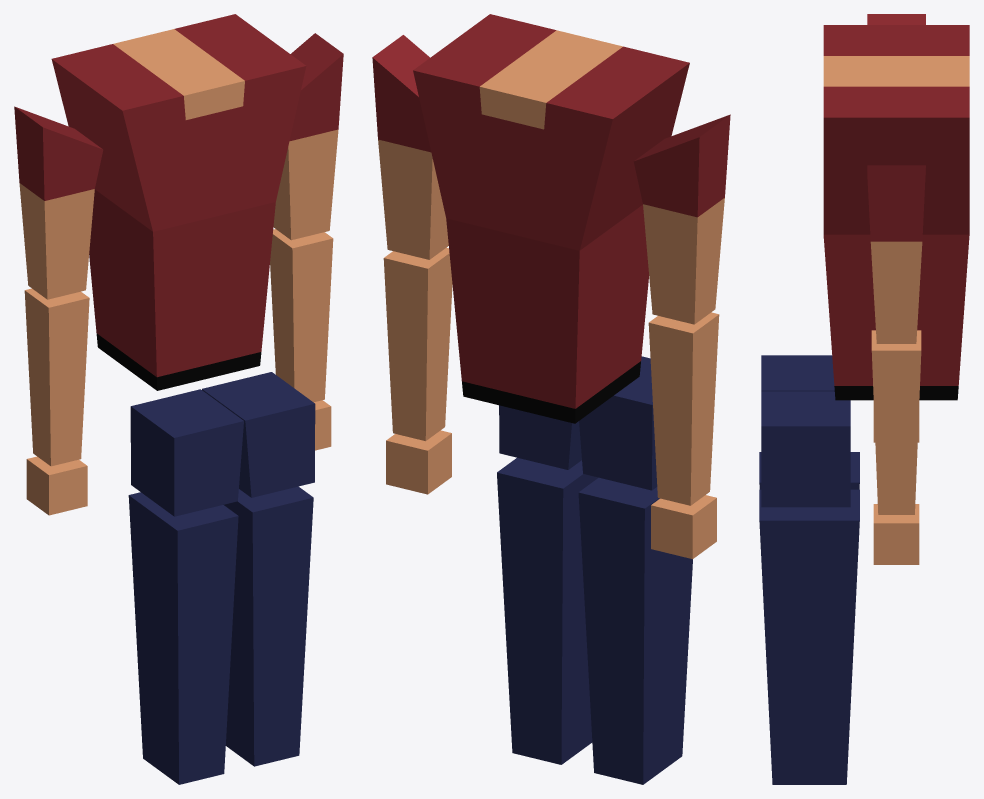
The model's file is FBX_BenchPerson.fbx.
The picture shows the model from 3 angles, left to right: view 1: azimuth 30°, elevation 25°; view 2: azimuth 150°, elevation 25°; view 3: azimuth 270°, elevation 25°; orthographic projection. The views are drawn at different scales.
Parts seen in each view (by area): view 1: Torso, Legs, ArmRight, ForearmRight, ArmLeft, ForearmLeft, HandRight, HandLeft; view 2: Torso, Legs, ArmRight, ForearmRight, ArmLeft, ForearmLeft, HandLeft, HandRight; view 3: Torso, Legs, ArmLeft, ForearmLeft, HandLeft, ArmRight.
Part boxes in pixels (bbox=[...]): Torso: bbox=[51, 14, 306, 390]; Legs: bbox=[128, 372, 315, 784]; ArmRight: bbox=[14, 106, 103, 299]; ForearmRight: bbox=[24, 288, 89, 466]; ArmLeft: bbox=[273, 33, 343, 240]; ForearmLeft: bbox=[270, 229, 333, 402]; HandRight: bbox=[26, 456, 87, 515]; HandLeft: bbox=[314, 400, 331, 450]; Torso: bbox=[413, 14, 689, 423]; Legs: bbox=[497, 356, 692, 784]; ArmRight: bbox=[633, 114, 730, 324]; ForearmRight: bbox=[648, 312, 719, 505]; ArmLeft: bbox=[372, 35, 448, 259]; ForearmLeft: bbox=[383, 247, 452, 441]; HandLeft: bbox=[386, 430, 451, 494]; HandRight: bbox=[651, 495, 716, 559]; Torso: bbox=[823, 25, 969, 400]; Legs: bbox=[759, 355, 859, 784]; ArmLeft: bbox=[867, 165, 925, 343]; ForearmLeft: bbox=[871, 330, 921, 514]; HandLeft: bbox=[873, 504, 919, 564]; ArmRight: bbox=[867, 14, 925, 24].
Size of the model in its own units: 490 by 1033 by 288.
